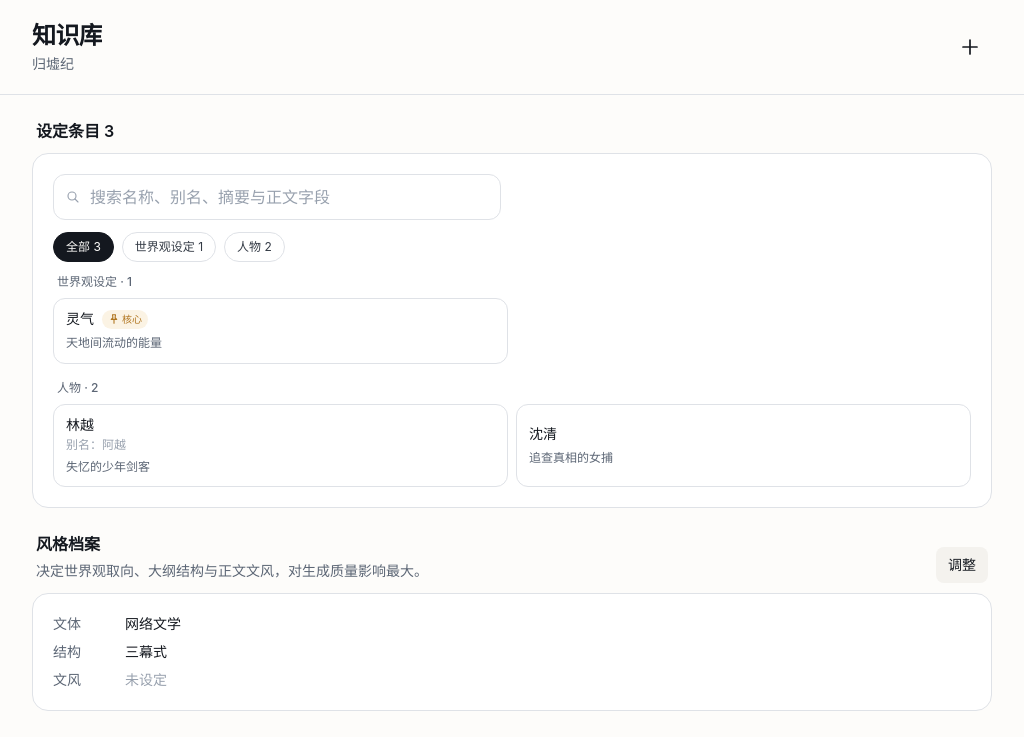
Test: 条目列表 › 搜不到时给出明确提示
Type "不存在的东西" into the search field named "搜索条目". click: (277, 197)
box: [53,174,501,220]
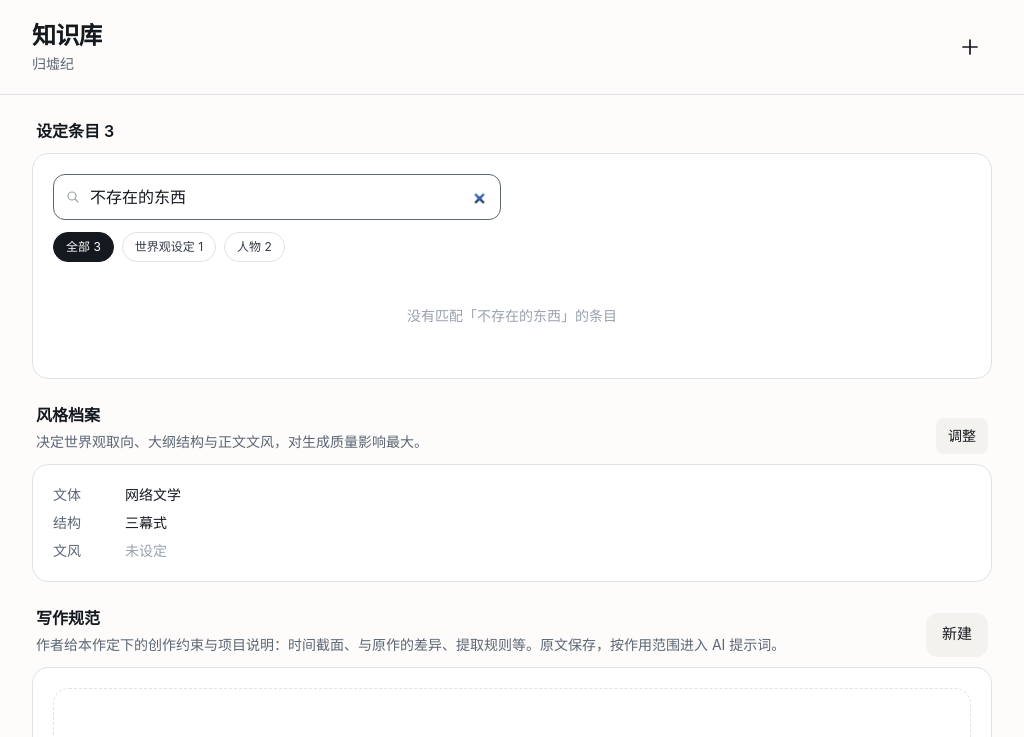
Result: the text "没有匹配「不存在的东西」的条目" is shown at [407,307,617,324]
